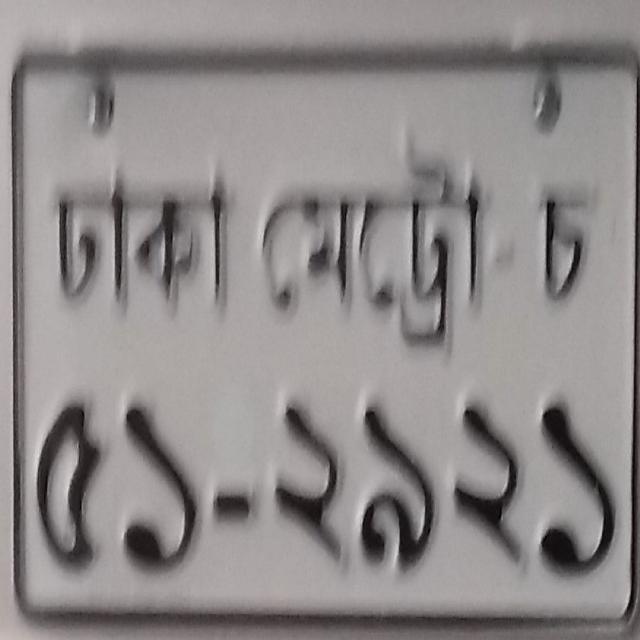numberplate: (8, 38, 636, 626)
